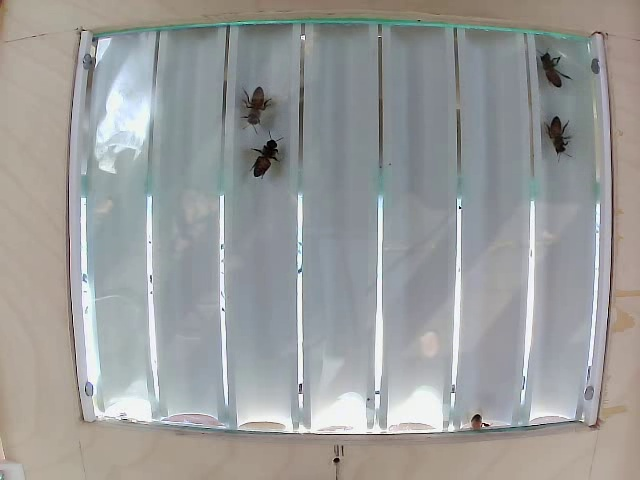bee: (253, 132, 284, 191), (238, 89, 276, 135), (538, 50, 565, 91), (550, 114, 575, 155)
